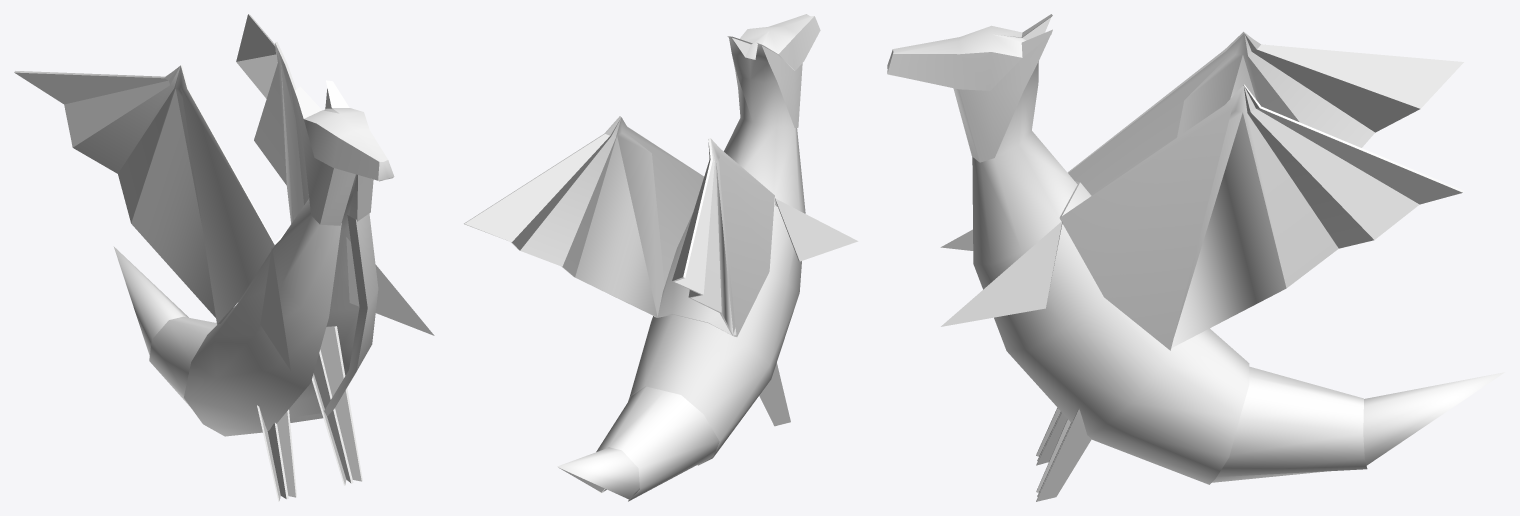
File: Flying_Dragon_Export.FBX
3 renders of one model, left to right at view 1: azimuth 30°, elevation 25°; view 2: azimuth 150°, elevation 25°; view 3: azimuth 270°, elevation 25°, orthographic. The views are drawn at different scales.
Parts seen in each view (by area): view 1: Flying_Dragon; view 2: Flying_Dragon; view 3: Flying_Dragon.
Part boxes in pixels (x1,y1,x2,y2): Flying_Dragon: (14,14,434,501); Flying_Dragon: (464,14,858,501); Flying_Dragon: (887,14,1504,501).
Size of the model in its own units: 108 by 177 by 217.
